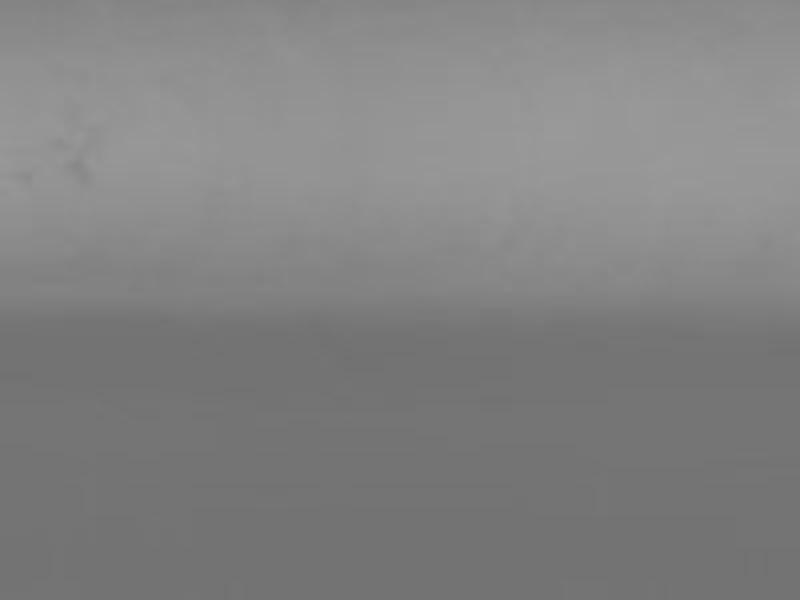defect: (67, 156, 95, 183)
